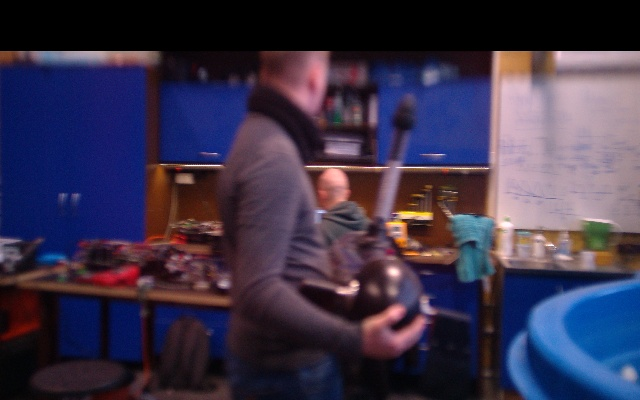black: (371, 152, 407, 229)
